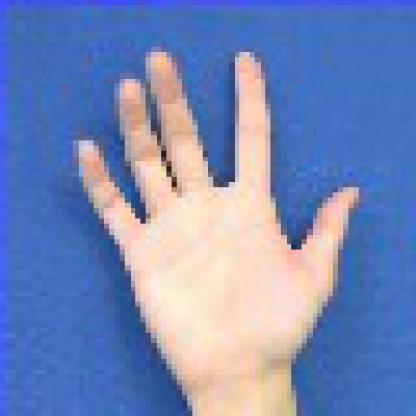five: (67, 31, 374, 411)
